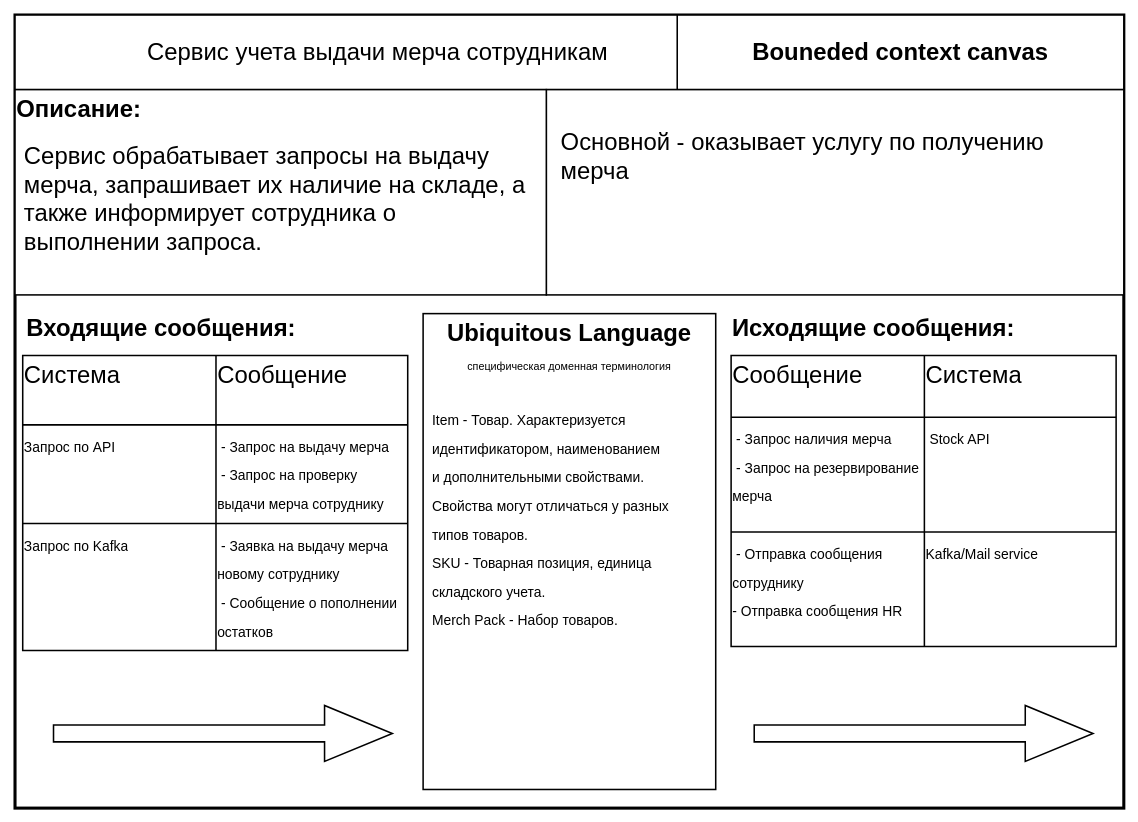
Some shapes in this 1138 by 822 pixel diagram are drawn without their labels. Each missing label, with the box of its shape:
Название:: (14, 14, 678, 90)
Стратегическая классификация:: (545, 88, 1124, 295)
